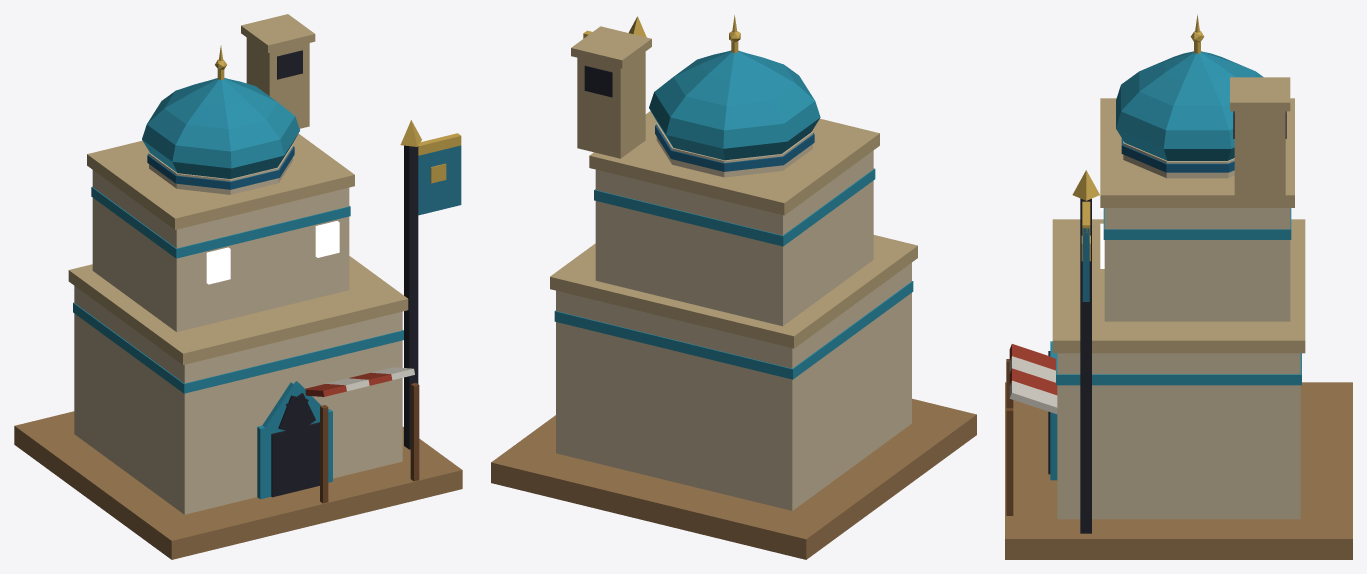
Rendered from house_t4.glb.
3 views of the same model, side by side, from view 1: azimuth 30°, elevation 25°; view 2: azimuth 150°, elevation 25°; view 3: azimuth 270°, elevation 25° (orthographic). The views are drawn at different scales.
Parts seen in each view (by area): view 1: body, glow; view 2: body; view 3: body.
Boxes of the visible parts, bbox=[...] form: body: bbox=[14, 14, 462, 559]; glow: bbox=[206, 221, 339, 284]; body: bbox=[491, 15, 976, 559]; body: bbox=[1005, 14, 1352, 559].
Size of the model in its own units: 1.79 by 2.2 by 1.5.
